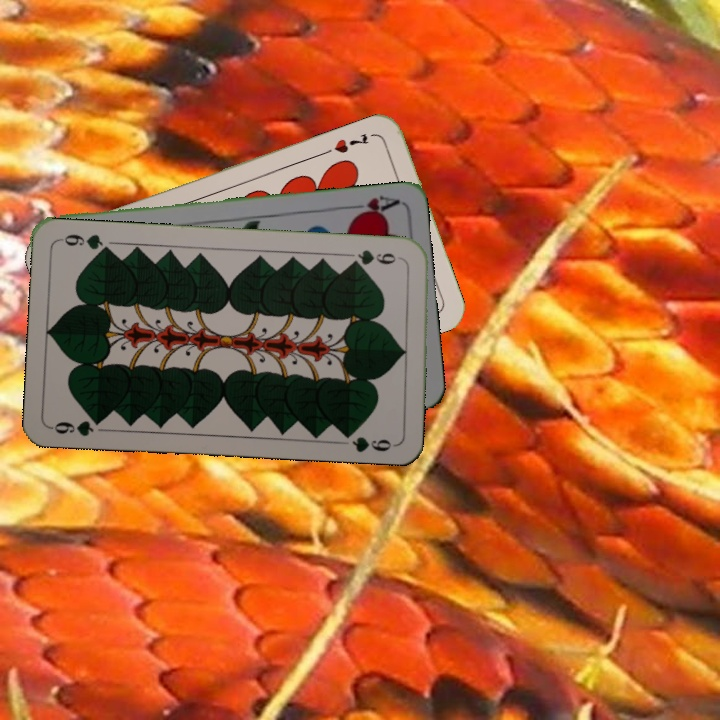G9: (47, 413, 107, 439), (346, 246, 406, 268)
H7: (330, 129, 371, 156)
HA: (342, 191, 401, 221)
